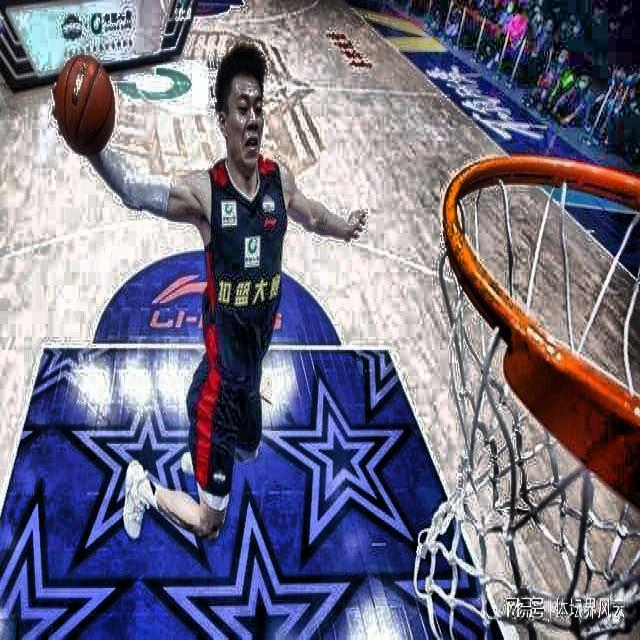board: (56, 52, 116, 157)
rim: (414, 155, 640, 640)
